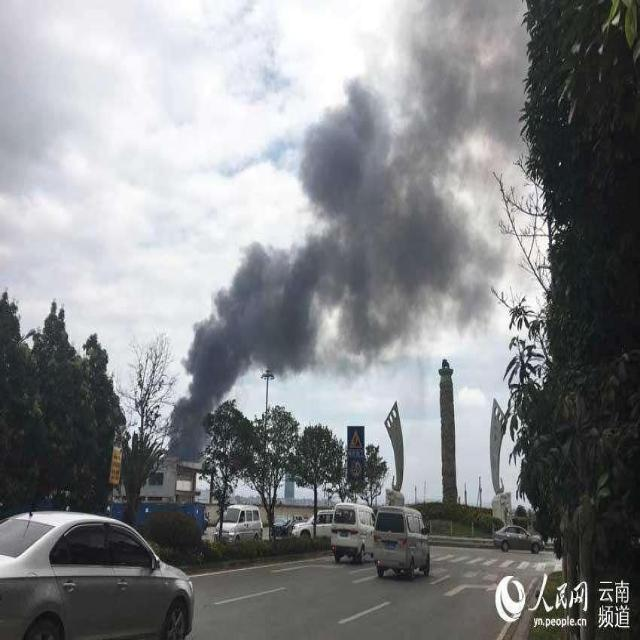Smoke: (302, 0, 544, 370), (163, 228, 324, 466)
